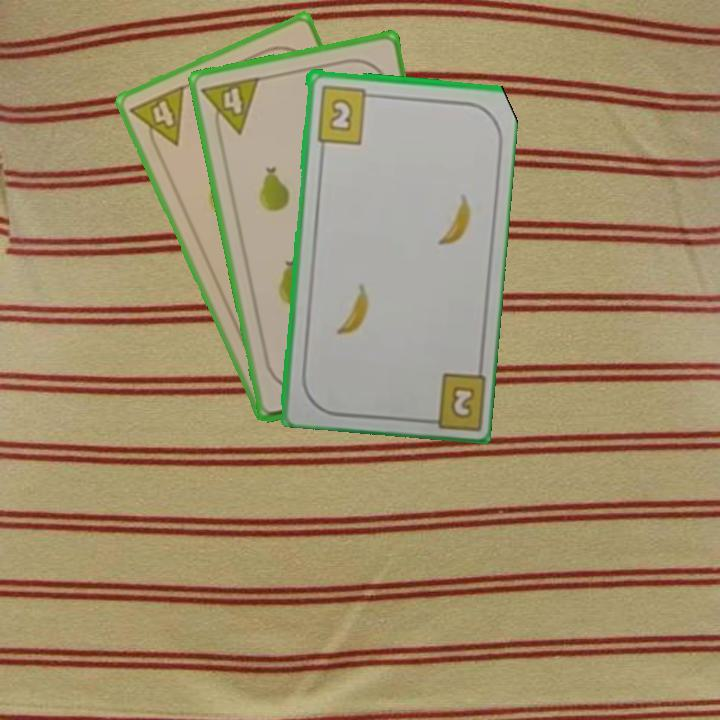2b: (313, 82, 378, 146), (447, 381, 478, 421)
4p: (126, 81, 188, 157), (198, 73, 263, 141)
